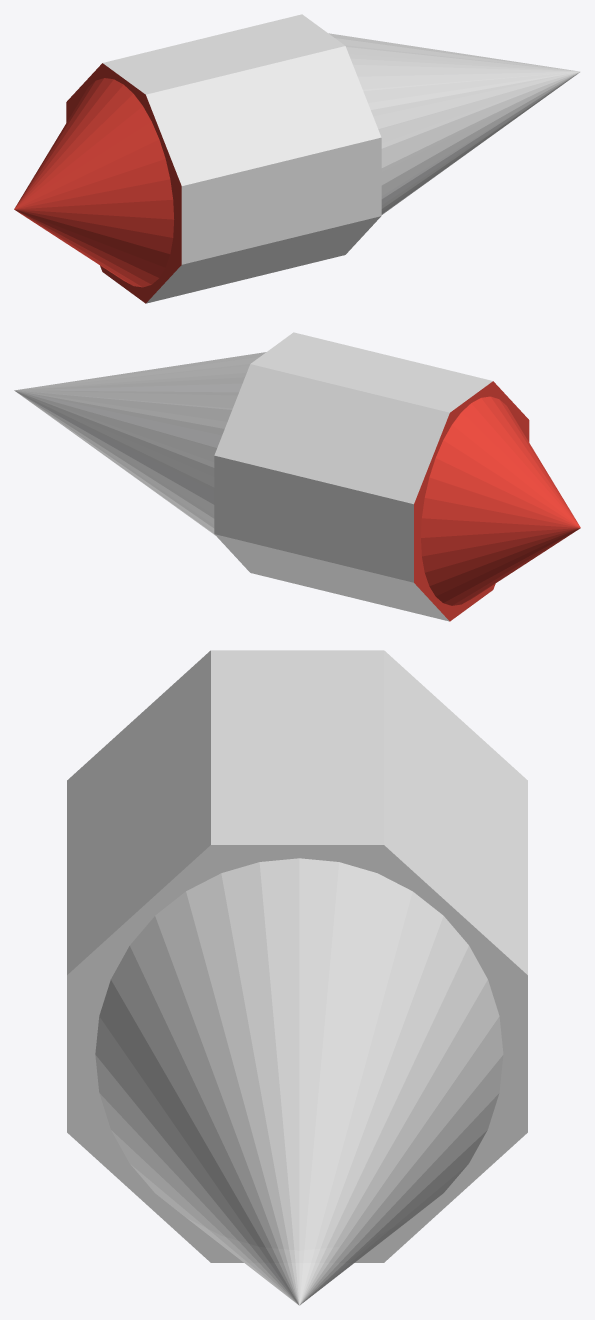
File: CS381Bullet03.fbx
The picture shows the model from 3 angles, top to bottom: view 1: azimuth 30°, elevation 25°; view 2: azimuth 150°, elevation 25°; view 3: azimuth 270°, elevation 25°; orthographic projection. The views are drawn at different scales.
Parts seen in each view (by area): view 1: Cube; view 2: Cube; view 3: Cube.
Part boxes in pixels (x1,y1,x2,y2): Cube: [14, 14, 580, 303]; Cube: [14, 332, 580, 621]; Cube: [67, 650, 527, 1305].
Size of the model in its own units: 568 by 200 by 200.
